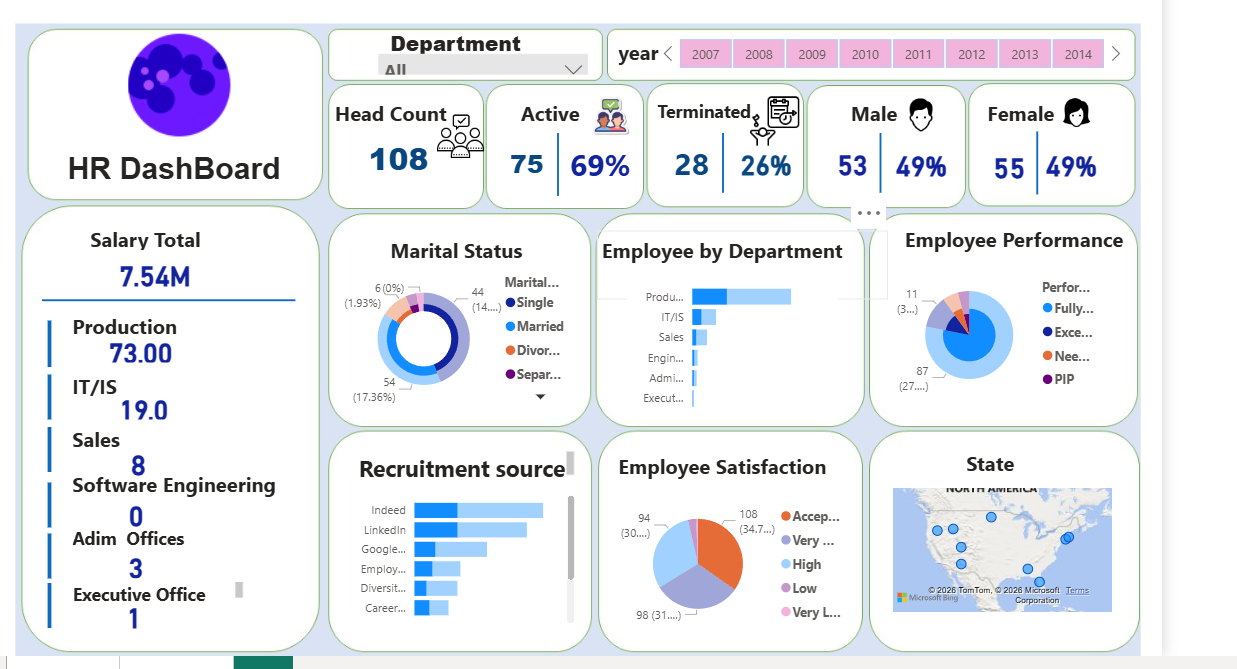

What the dashboard file says about the page in this screenshot:
{"tool":"powerbi","page":{"name":"Page 1","canvas":[1280,720],"ordinal":0},"visuals":[{"type":"textbox","box":[24.7,141.3,229.2,43.9],"z":0},{"type":"image","box":[25.3,2.4,200.3,149.6],"z":1000},{"type":"textbox","box":[253.9,12.3,200.3,30.2],"z":2000},{"type":"slicer","fields":{"Values":["HRData.Department"]},"box":[253.9,27.4,200.3,49.4],"z":3000},{"type":"textbox","box":[529.7,12.3,71.4,30.2],"z":4000},{"type":"slicer","fields":{"Values":["HRData.Year"]},"box":[529.7,42.5,739.6,42.5],"z":5000},{"type":"textbox","box":[462.4,96.1,177,31.6],"z":5002},{"type":"textbox","box":[253.9,96.1,177,31.6],"z":5003},{"type":"textbox","box":[666.9,96.1,177,31.6],"z":5004},{"type":"textbox","box":[875.5,96.1,177,31.6],"z":5005},{"type":"textbox","box":[1092.3,96.1,177,31.6],"z":5006},{"type":"textbox","box":[330.7,214.1,177,31.6],"z":5007},{"type":"textbox","box":[609.3,214.1,236,31.6],"z":5008},{"type":"textbox","box":[979.8,214.1,218.2,31.6],"z":5009},{"type":"textbox","box":[330.7,456.9,177,31.6],"z":5010},{"type":"textbox","box":[666.9,456.9,177,31.6],"z":5011},{"type":"textbox","box":[1022.3,456.9,177,31.6],"z":5012},{"type":"textbox","box":[24.7,214.1,177,31.6],"z":5013},{"type":"card","fields":{"Values":["All Measures.Headcount"]},"box":[299.1,127.6,87.8,52.1],"z":5014},{"type":"card","fields":{"Values":["All Measures.Active"]},"box":[454.2,134.5,111.1,50.8],"z":5015},{"type":"card","fields":{"Values":["All Measures.Active %"]},"box":[565.4,137.2,87.8,48],"z":5016},{"type":"shape","box":[535.2,135.8,61.7,54.9],"z":5017},{"type":"card","fields":{"Values":["All Measures.Terminated"]},"box":[653.2,135.8,108.4,52.1],"z":5018},{"type":"card","fields":{"Values":["All Measures.Terminated %"]},"box":[780.8,138.6,76.8,46.7],"z":5019},{"type":"donutChart","fields":{"Category":["HRData.MaritalStatus"],"Y":["All Measures.Headcount"]},"box":[253.9,214.1,312.9,226.4],"z":5020},{"type":"barChart","fields":{"Category":["HRData.Department"],"Y":["All Measures.Headcount"]},"box":[583.2,218.2,408.9,212.7],"z":5021},{"type":"pieChart","fields":{"Category":["HRData.PerformanceScore"],"Y":["All Measures.Headcount"]},"box":[950.9,214.1,329.3,247],"z":5022},{"type":"barChart","fields":{"Y":["All Measures.Headcount"],"Category":["HRData.RecruitmentSource"]},"box":[248.4,473.4,322.5,227.8],"z":5023},{"type":"pieChart","fields":{"Category":["HRData.Emp Satisifaction"],"Y":["All Measures.Headcount"]},"box":[603.8,488.5,311.5,203.1],"z":5024}]}

Visuals, with their boxes on the page's 1280x720 design canvas (x1, y1, x2, y2). These are canvas units, not pixel positions in the 1237x669 screenshot, which may show the page scaled, cropped or inside an application window:
textbox: bbox=(25, 141, 254, 185)
image: bbox=(25, 2, 226, 152)
textbox: bbox=(254, 12, 454, 42)
slicer - HRData.Department: bbox=(254, 27, 454, 77)
textbox: bbox=(530, 12, 601, 42)
slicer - HRData.Year: bbox=(530, 42, 1269, 85)
textbox: bbox=(462, 96, 639, 128)
textbox: bbox=(254, 96, 431, 128)
textbox: bbox=(667, 96, 844, 128)
textbox: bbox=(876, 96, 1052, 128)
textbox: bbox=(1092, 96, 1269, 128)
textbox: bbox=(331, 214, 508, 246)
textbox: bbox=(609, 214, 845, 246)
textbox: bbox=(980, 214, 1198, 246)
textbox: bbox=(331, 457, 508, 488)
textbox: bbox=(667, 457, 844, 488)
textbox: bbox=(1022, 457, 1199, 488)
textbox: bbox=(25, 214, 202, 246)
card - All Measures.Headcount: bbox=(299, 128, 387, 180)
card - All Measures.Active: bbox=(454, 134, 565, 185)
card - All Measures.Active %: bbox=(565, 137, 653, 185)
shape: bbox=(535, 136, 597, 191)
card - All Measures.Terminated: bbox=(653, 136, 762, 188)
card - All Measures.Terminated %: bbox=(781, 139, 858, 185)
donutChart - HRData.MaritalStatus x All Measures.Headcount: bbox=(254, 214, 567, 440)
barChart - HRData.Department x All Measures.Headcount: bbox=(583, 218, 992, 431)
pieChart - HRData.PerformanceScore x All Measures.Headcount: bbox=(951, 214, 1280, 461)
barChart - All Measures.Headcount x HRData.RecruitmentSource: bbox=(248, 473, 571, 701)
pieChart - HRData.Emp Satisifaction x All Measures.Headcount: bbox=(604, 488, 915, 692)
